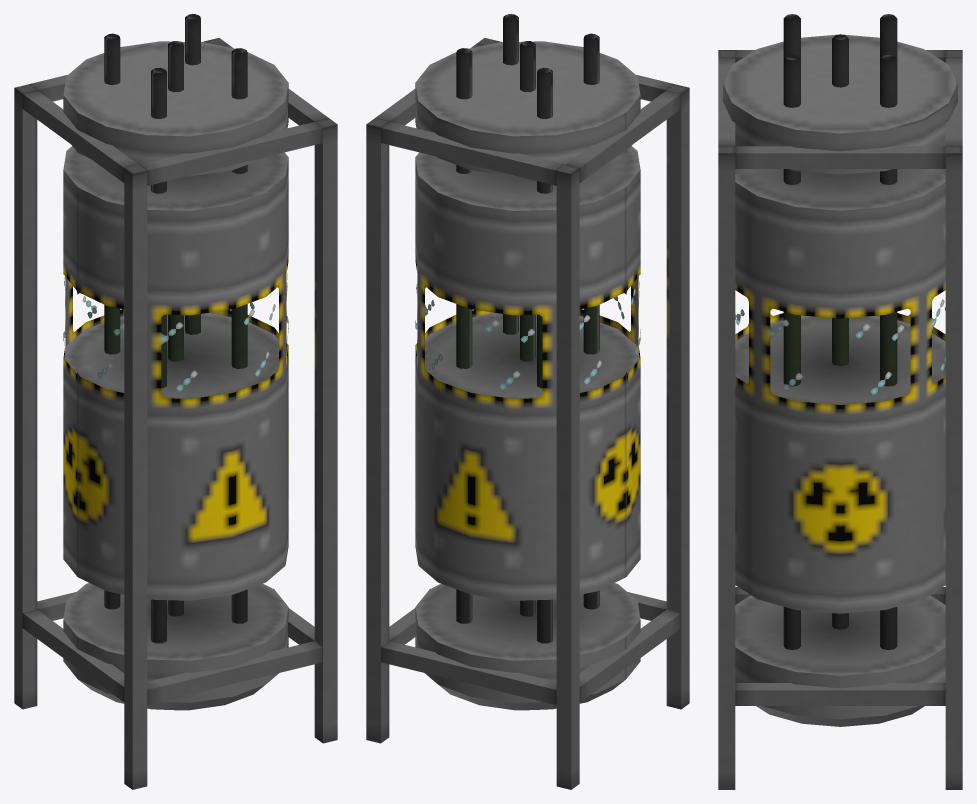
Rendered from breeder.obj.
The picture shows the model from 3 angles, left to right: view 1: azimuth 30°, elevation 25°; view 2: azimuth 150°, elevation 25°; view 3: azimuth 270°, elevation 25°; orthographic projection. The views are drawn at different scales.
Visible parts, largest first — view 1: Cube.005_Cube.010; view 2: Cube.005_Cube.010; view 3: Cube.005_Cube.010.
Boxes of the visible parts, x1,y1,x2,y2 form: Cube.005_Cube.010: (14,14,337,789); Cube.005_Cube.010: (366,14,689,789); Cube.005_Cube.010: (718,14,962,789).
Bounding box in the file's own units: 1.98 × 6.26 × 1.98.
